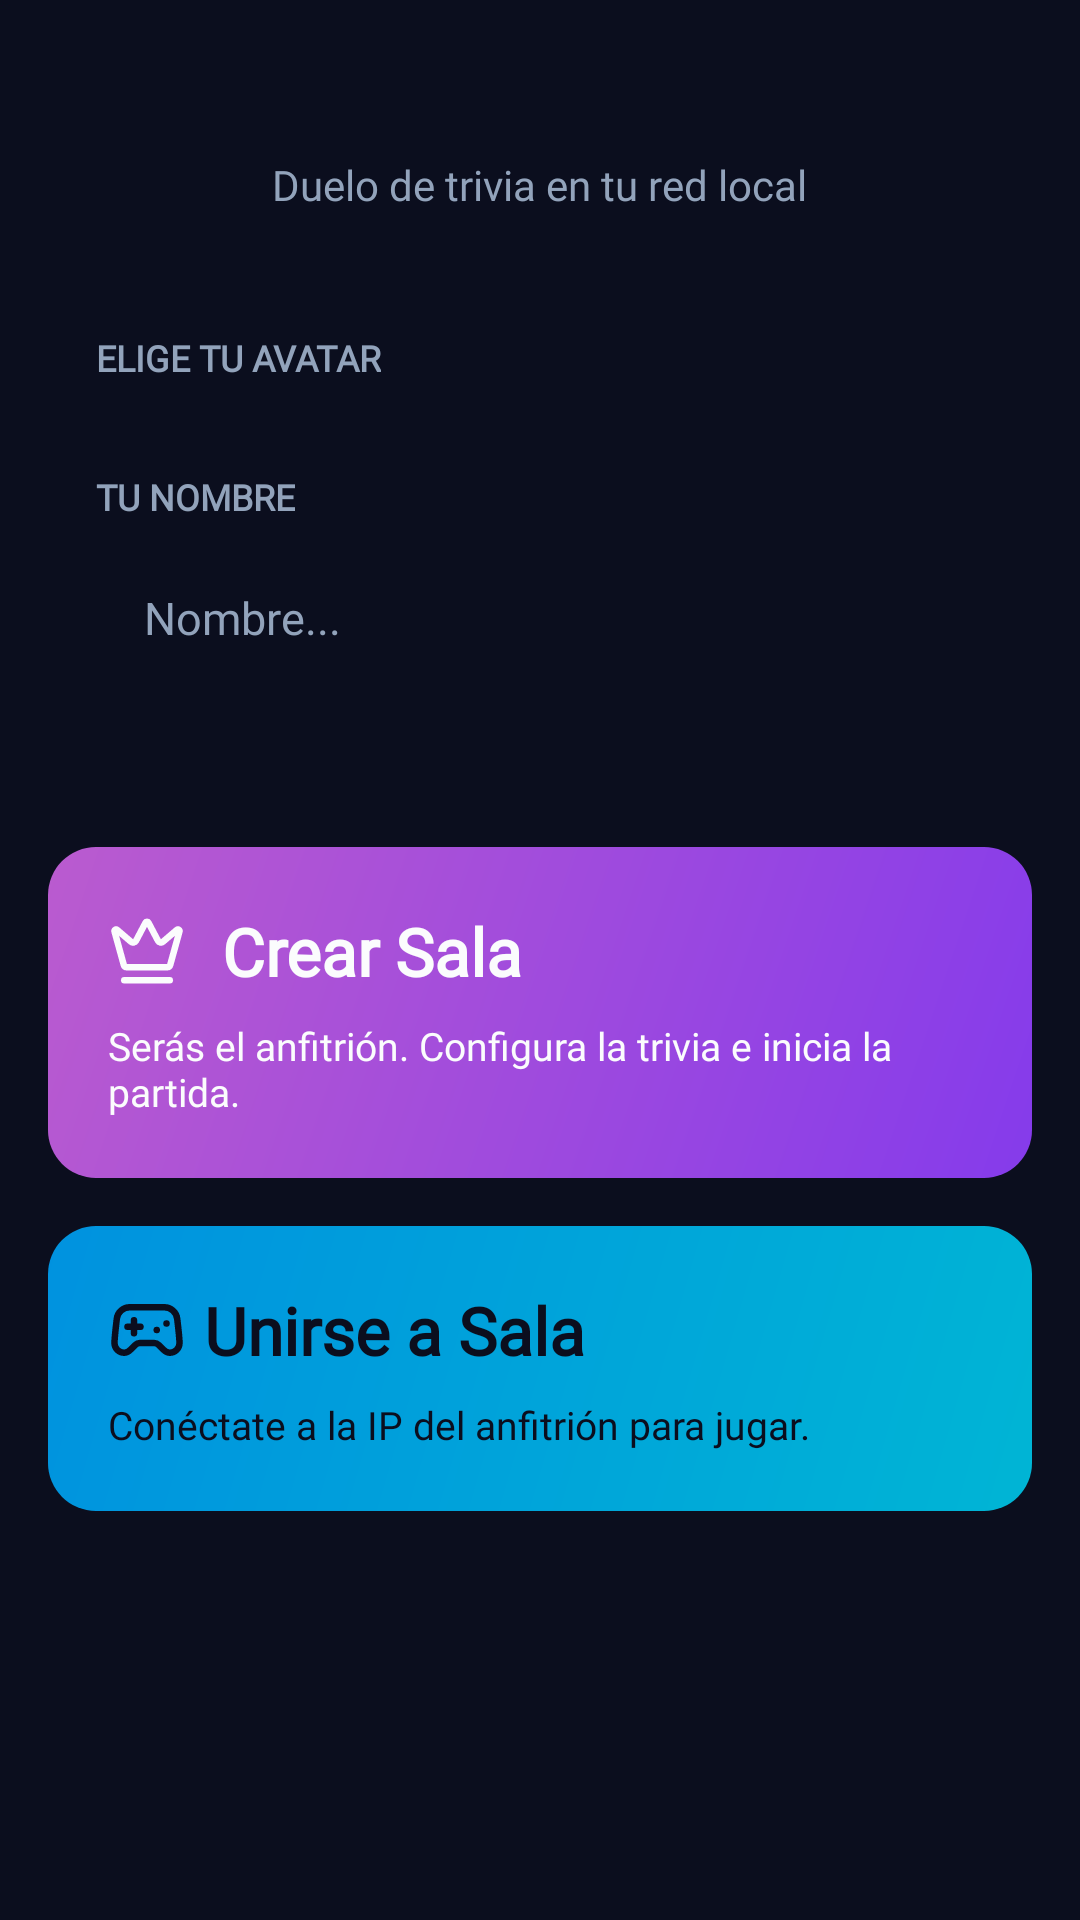

Icon click points for this 1080w x 1920h phone screenshot, format [x,y]:
crown: [147,951]
gamepad: [147,1330]
